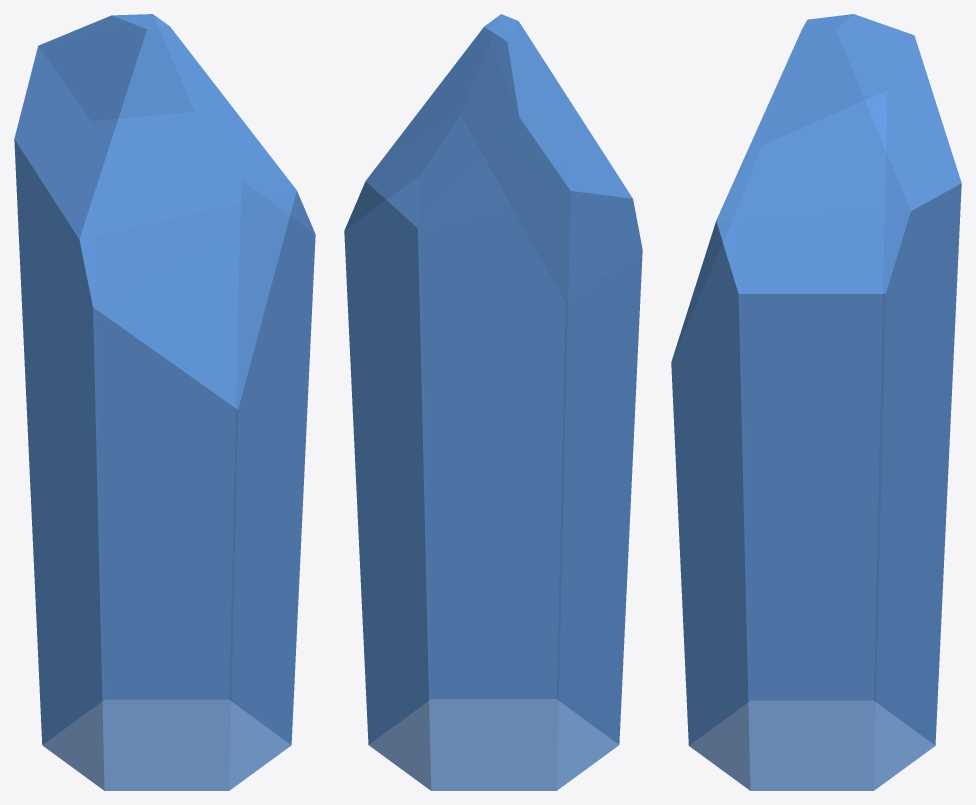
Rendered from Crystal_m_07.fbx.
3 views of the same model, side by side, from view 1: azimuth 30°, elevation 25°; view 2: azimuth 150°, elevation 25°; view 3: azimuth 270°, elevation 25° (orthographic).
Visible parts, largest first — view 1: Crystal_m_07; view 2: Crystal_m_07; view 3: Crystal_m_07.
Boxes of the visible parts, x1,y1,x2,y2 form: Crystal_m_07: (14, 14, 315, 790); Crystal_m_07: (344, 14, 642, 790); Crystal_m_07: (671, 14, 961, 790).
Bounding box in the file's own units: 45.7 × 140 × 51.43.
